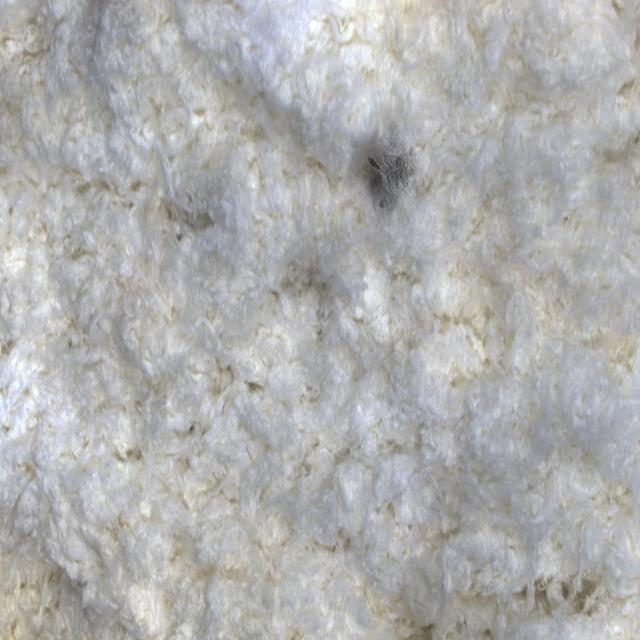dust: (303, 92, 448, 240)
